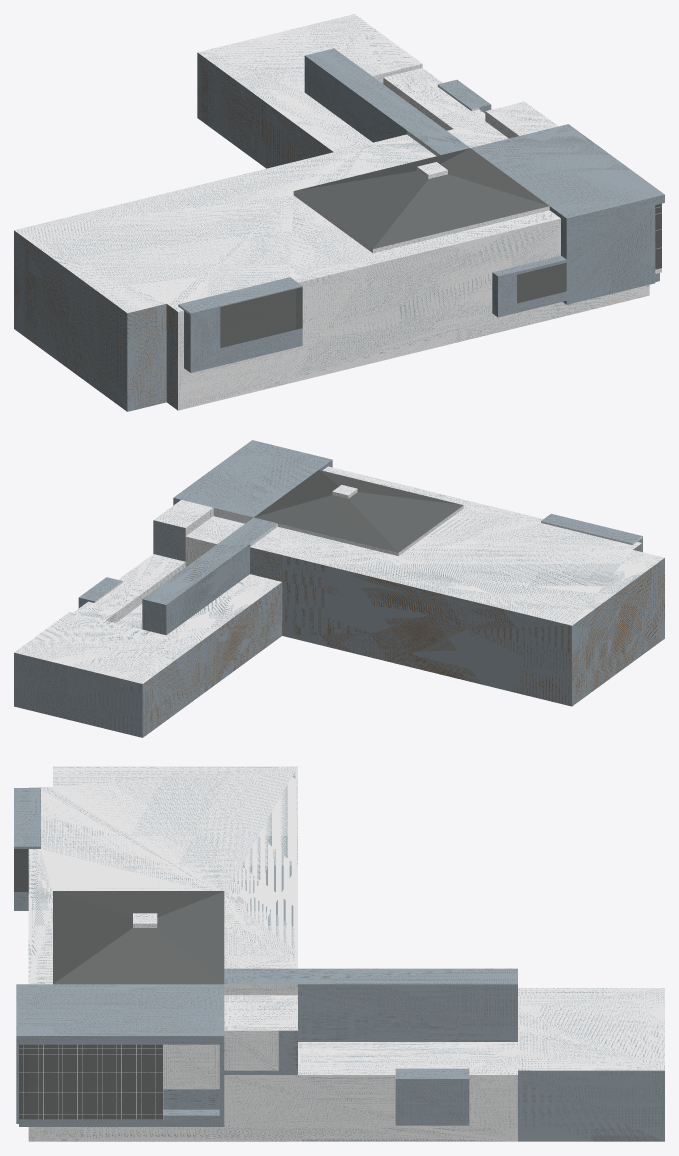
The model's file is Nexus Textured.fbx.
3 views of the same model, one above another, from view 1: azimuth 30°, elevation 25°; view 2: azimuth 150°, elevation 25°; view 3: azimuth 270°, elevation 25° (orthographic). The views are drawn at different scales.
Parts seen in each view (by area): view 1: Model; view 2: Model; view 3: Model.
Boxes of the visible parts, box(x1,y1,x2,y2) form: Model: box(14, 14, 664, 411); Model: box(14, 440, 664, 737); Model: box(14, 766, 664, 1141).
Size of the model in its own units: 3192 by 744 by 3192.
